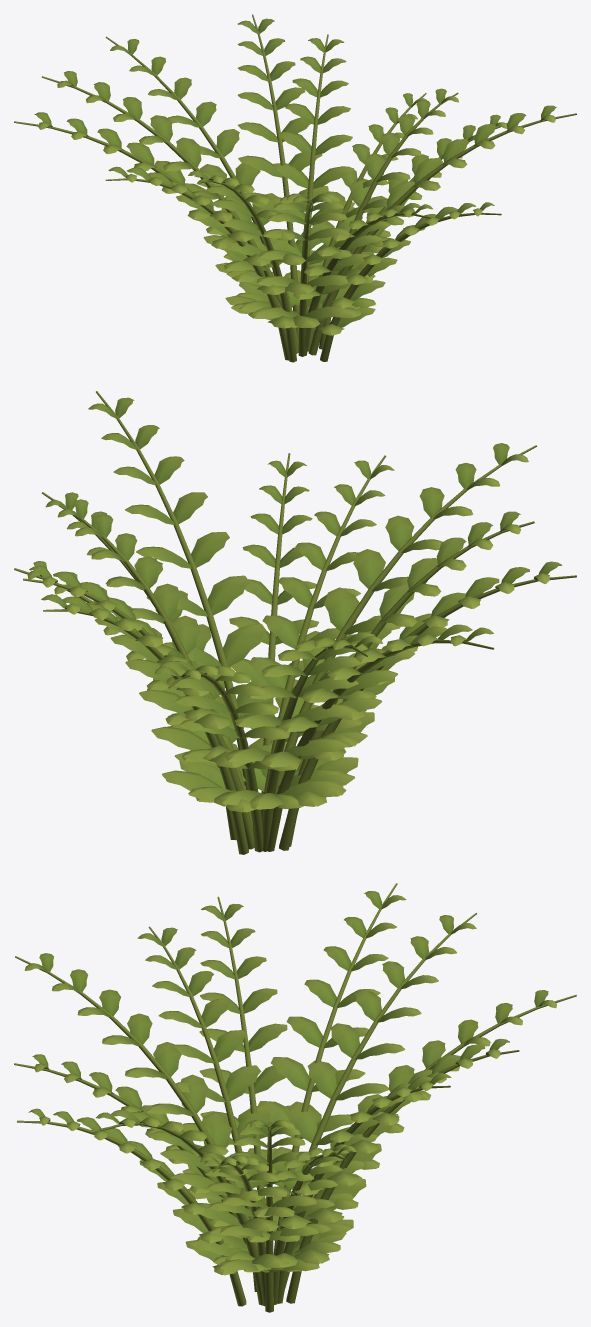
File: fern_lush.glb
3 renders of one model, top to bottom at view 1: azimuth 30°, elevation 25°; view 2: azimuth 150°, elevation 25°; view 3: azimuth 270°, elevation 25°, orthographic. The views are drawn at different scales.
Visible parts, largest first — view 1: Plant; view 2: Plant; view 3: Plant.
Part boxes in pixels (x1,y1,x2,y2): Plant: [14, 14, 576, 362]; Plant: [14, 391, 576, 854]; Plant: [14, 883, 576, 1312].
Size of the model in its own units: 0.9182 by 0.5171 by 0.8979.
